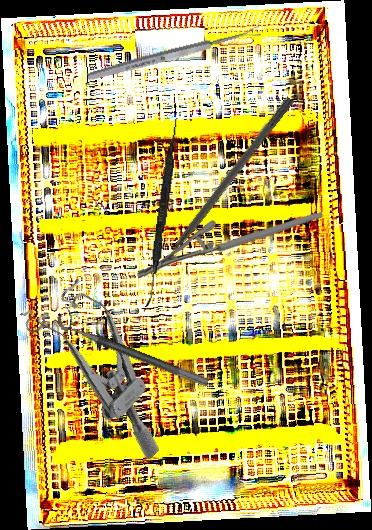Fixation Ring: (53, 305, 215, 388)
Needle Holder: (138, 208, 322, 283)
Pusher: (148, 94, 296, 278)
Spatula Surgical: (145, 117, 180, 308)
Speculum: (6, 265, 208, 462)
Surgical Spoon: (86, 25, 262, 83)
